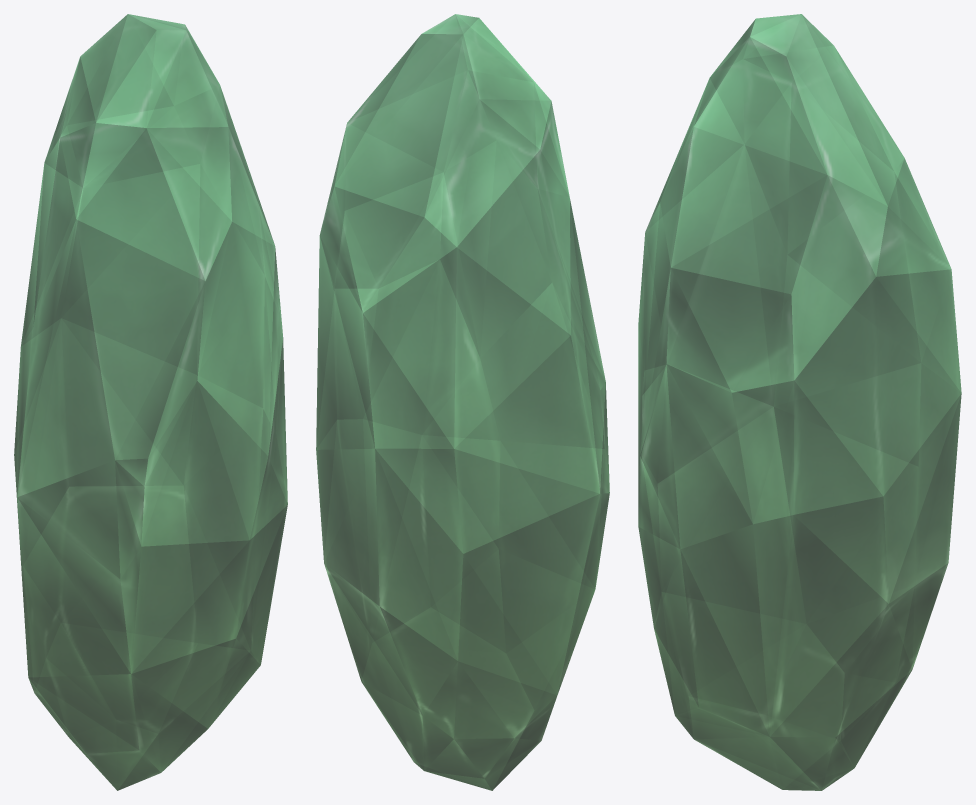
File: crystal3.obj
3 renders of one model, left to right at view 1: azimuth 30°, elevation 25°; view 2: azimuth 150°, elevation 25°; view 3: azimuth 270°, elevation 25°, orthographic. The views are drawn at different scales.
Visible parts, largest first — view 1: gem.005; view 2: gem.005; view 3: gem.005.
Boxes of the visible parts, box(x1,y1,x2,y2) form: gem.005: box(14, 14, 287, 790); gem.005: box(316, 14, 609, 790); gem.005: box(638, 14, 961, 790).
Bounding box in the file's own units: 0.3225 × 0.9153 × 0.3412.
Materials: 1 (1 with a texture image).
